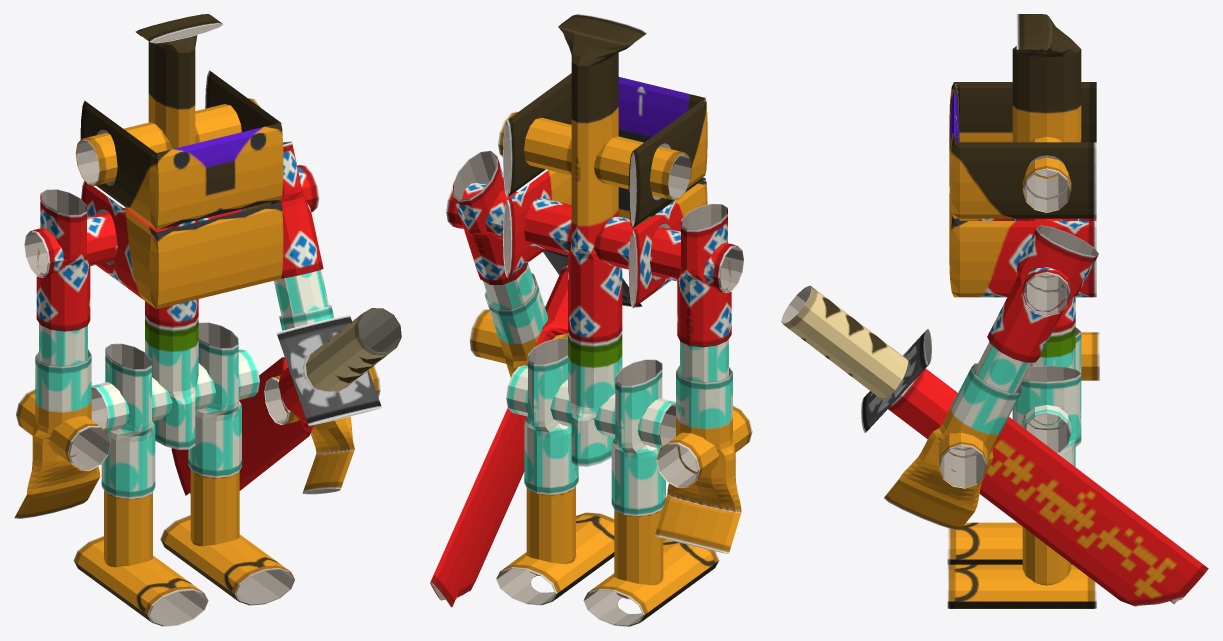
The model's file is rokusuke.glb.
3 views of the same model, side by side, from view 1: azimuth 30°, elevation 25°; view 2: azimuth 150°, elevation 25°; view 3: azimuth 270°, elevation 25° (orthographic).
Parts seen in each view (by area): view 1: P1 ロクスケ_頭_顔 [短冊1-1], P4 ロクスケ_胴体_胸と肩 [短冊1-2], P7 ロクスケ_頭・胴体_ちょんまげ・上側の支柱 [短冊1-3], P17 ロクスケ_腕_右手・袖口 [短冊2-2], P21 ロクスケ_脚_右脚 [短冊2-4], P23 ロクスケ_脚_左脚 [短冊2-5], P12 ロクスケ_腕_右上腕 [短冊1-5], P27 ロクスケ_脚_左足 [短冊2-7], P25 ロクスケ_脚_右足 [短冊2-6], P31 ロクスケ_道具_刀の鞘 [短冊2-9], P10 ロクスケ_胴体_腰の支柱 [短冊1-4], P29 ロクスケ_道具_刀の鍔 [短冊2-8] (+12 smaller); view 2: P7 ロクスケ_頭・胴体_ちょんまげ・上側の支柱 [短冊1-3], P1 ロクスケ_頭_顔 [短冊1-1], P17 ロクスケ_腕_右手・袖口 [短冊2-2], P31 ロクスケ_道具_刀の鞘 [短冊2-9], P34 ロクスケ_胴体_肩の接続軸 [短冊3-2], P4 ロクスケ_胴体_胸と肩 [短冊1-2], P21 ロクスケ_脚_右脚 [短冊2-4], P23 ロクスケ_脚_左脚 [短冊2-5], P12 ロクスケ_腕_右上腕 [短冊1-5], P33 ロクスケ_頭_左右の接続軸 [短冊3-1], P10 ロクスケ_胴体_腰の支柱 [短冊1-4], P25 ロクスケ_脚_右足 [短冊2-6] (+11 smaller); view 3: P31 ロクスケ_道具_刀の鞘 [短冊2-9], P1 ロクスケ_頭_顔 [短冊1-1], P7 ロクスケ_頭・胴体_ちょんまげ・上側の支柱 [短冊1-3], P19 ロクスケ_腕_左手・袖口 [短冊2-3], P4 ロクスケ_胴体_胸と肩 [短冊1-2], P15 ロクスケ_腕_左上腕 [短冊2-1], P43 ロクスケ_道具_刀の柄 [短冊4-1], P27 ロクスケ_脚_左足 [短冊2-7], P23 ロクスケ_脚_左脚 [短冊2-5], P25 ロクスケ_脚_右足 [短冊2-6], P33 ロクスケ_頭_左右の接続軸 [短冊3-1], P36 ロクスケ_腕・道具_左手首と鞘の接続軸 [短冊3-4] (+7 smaller).
Boxes of the visible parts, x1,y1,x2,y2 form: P1 ロクスケ_頭_顔 [短冊1-1]: (80,70,283,229); P4 ロクスケ_胴体_胸と肩 [短冊1-2]: (81,180,283,309); P7 ロクスケ_頭・胴体_ちょんまげ・上側の支柱 [短冊1-3]: (135,14,223,329); P17 ロクスケ_腕_右手・袖口 [短冊2-2]: (14,349,100,518); P21 ロクスケ_脚_右脚 [短冊2-4]: (101,343,155,498); P23 ロクスケ_脚_左脚 [短冊2-5]: (188,322,241,477); P12 ロクスケ_腕_右上腕 [短冊1-5]: (36,189,90,331); P27 ロクスケ_脚_左足 [短冊2-7]: (160,514,294,605); P25 ロクスケ_脚_右足 [短冊2-6]: (73,535,208,626); P31 ロクスケ_道具_刀の鞘 [短冊2-9]: (171,357,314,495); P10 ロクスケ_胴体_腰の支柱 [短冊1-4]: (145,318,198,449); P29 ロクスケ_道具_刀の鍔 [短冊2-8]: (276,315,381,425); P7 ロクスケ_頭・胴体_ちょんまげ・上側の支柱 [短冊1-3]: (558,14,647,345); P1 ロクスケ_頭_顔 [短冊1-1]: (503,73,707,228); P17 ロクスケ_腕_右手・袖口 [短冊2-2]: (655,365,741,553); P31 ロクスケ_道具_刀の鞘 [短冊2-9]: (430,265,567,607); P34 ロクスケ_胴体_肩の接続軸 [短冊3-2]: (446,182,743,293); P4 ロクスケ_胴体_胸と肩 [短冊1-2]: (503,170,707,308); P21 ロクスケ_脚_右脚 [短冊2-4]: (611,359,665,516); P23 ロクスケ_脚_左脚 [短冊2-5]: (524,338,578,494); P12 ロクスケ_腕_右上腕 [短冊1-5]: (677,204,731,347); P33 ロクスケ_頭_左右の接続軸 [短冊3-1]: (498,111,691,200); P10 ロクスケ_胴体_腰の支柱 [短冊1-4]: (568,333,622,466); P25 ロクスケ_脚_右足 [短冊2-6]: (583,538,719,626); P31 ロクスケ_道具_刀の鞘 [短冊2-9]: (888,368,1208,606); P1 ロクスケ_頭_顔 [短冊1-1]: (949,82,1096,218); P7 ロクスケ_頭・胴体_ちょんまげ・上側の支柱 [短冊1-3]: (1012,14,1081,335); P19 ロクスケ_腕_左手・袖口 [短冊2-3]: (884,363,1022,530); P4 ロクスケ_胴体_胸と肩 [短冊1-2]: (949,193,1096,297); P15 ロクスケ_腕_左上腕 [短冊2-1]: (987,225,1098,362); P43 ロクスケ_道具_刀の柄 [短冊4-1]: (781,285,908,398); P27 ロクスケ_脚_左足 [短冊2-7]: (947,564,1096,608); P23 ロクスケ_脚_左脚 [短冊2-5]: (1012,365,1081,466); P25 ロクスケ_脚_右足 [短冊2-6]: (947,522,1071,564); P33 ロクスケ_頭_左右の接続軸 [短冊3-1]: (1022,136,1071,212); P36 ロクスケ_腕・道具_左手首と鞘の接続軸 [短冊3-4]: (939,432,987,488).
Bounding box in the file's own units: 0.0553 × 0.0996 × 0.0689.
50 materials, 50 textured.
